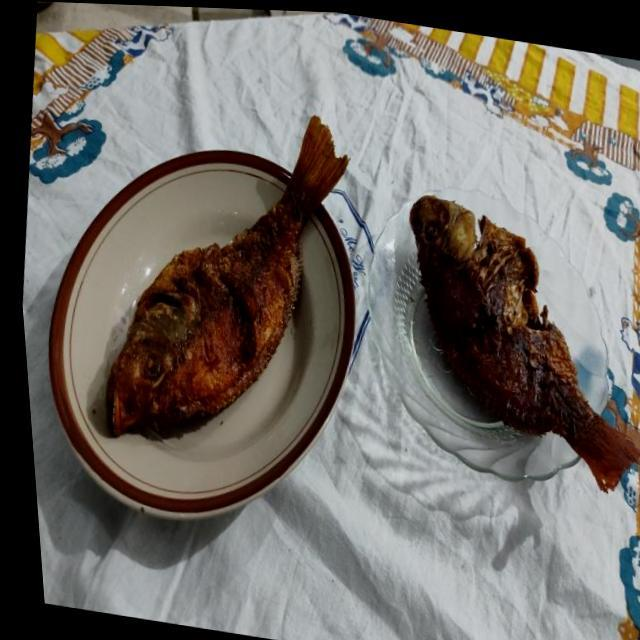ikan_mujair: (105, 117, 348, 436), (409, 196, 640, 492)
